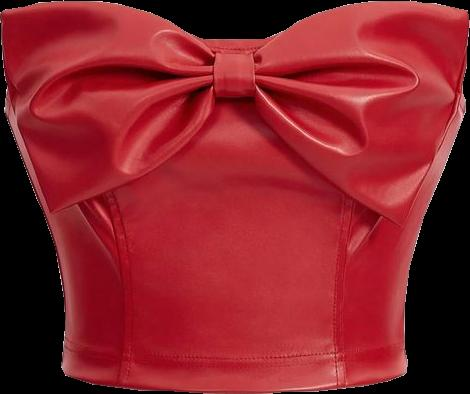Bodice: (1, 1, 468, 392)
Neckline: (42, 94, 420, 234), (0, 1, 468, 58)
Waistline: (59, 365, 411, 393)
